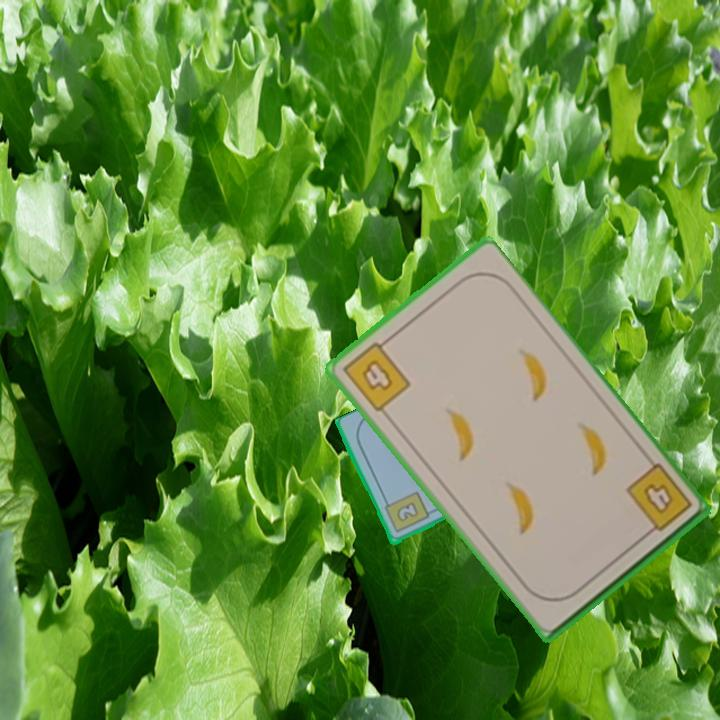2b: (380, 488, 431, 536)
4b: (338, 334, 414, 415), (621, 460, 695, 541)
